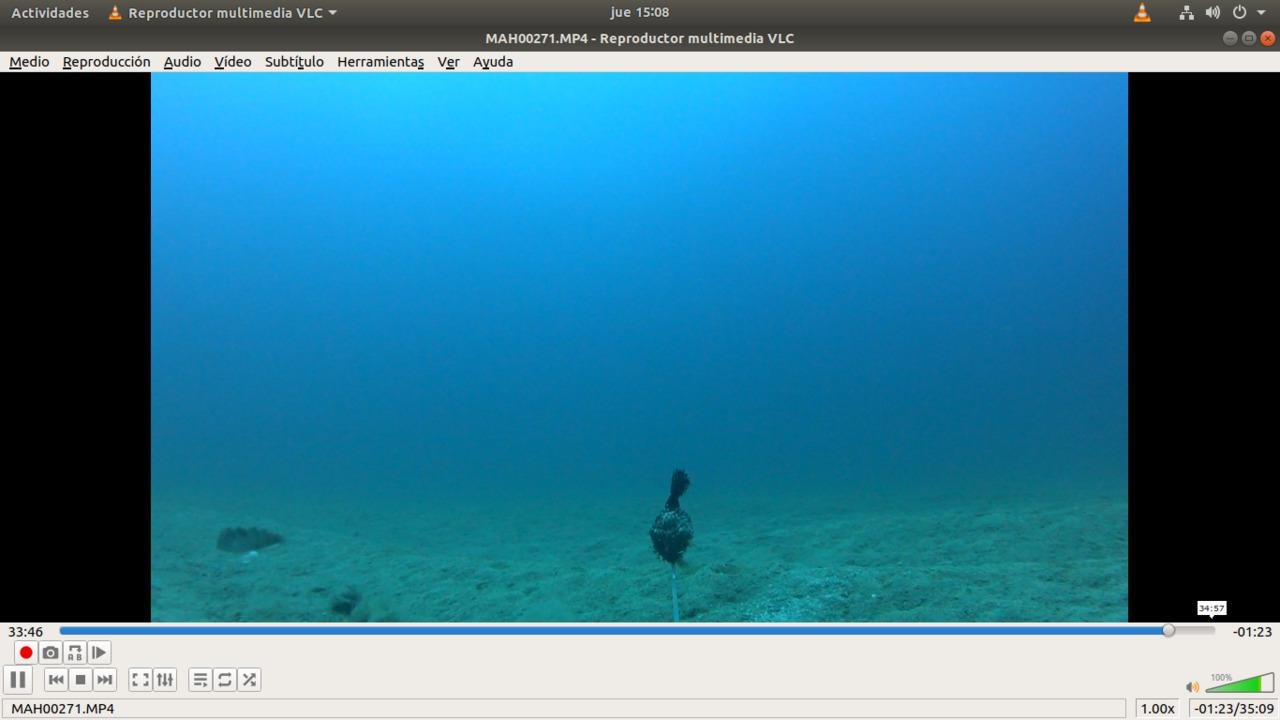raor: (210, 518, 293, 561)
